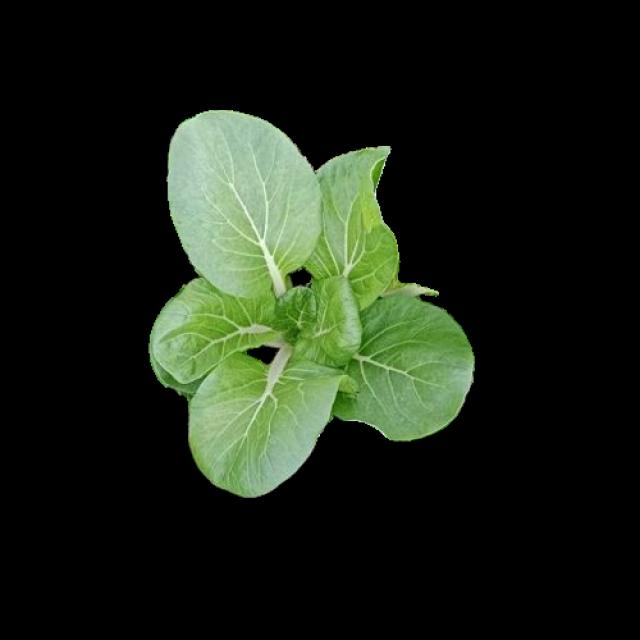healthy: (147, 110, 471, 493)
not-mature: (150, 113, 473, 495)
